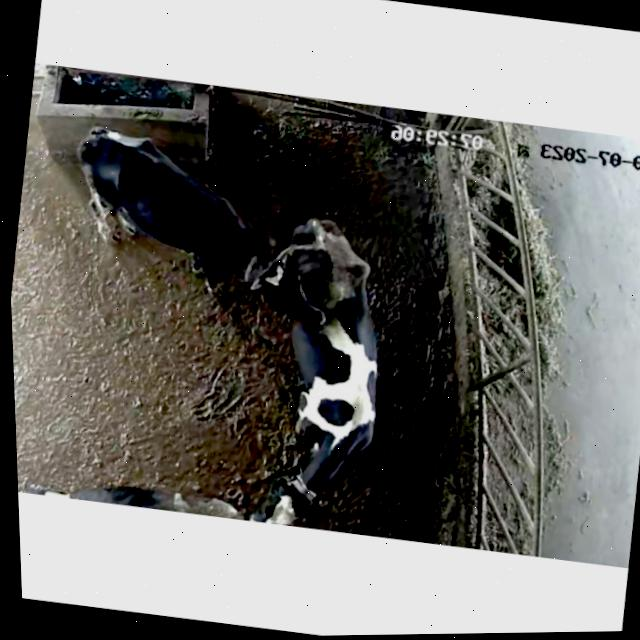propping: (211, 225, 360, 348)
